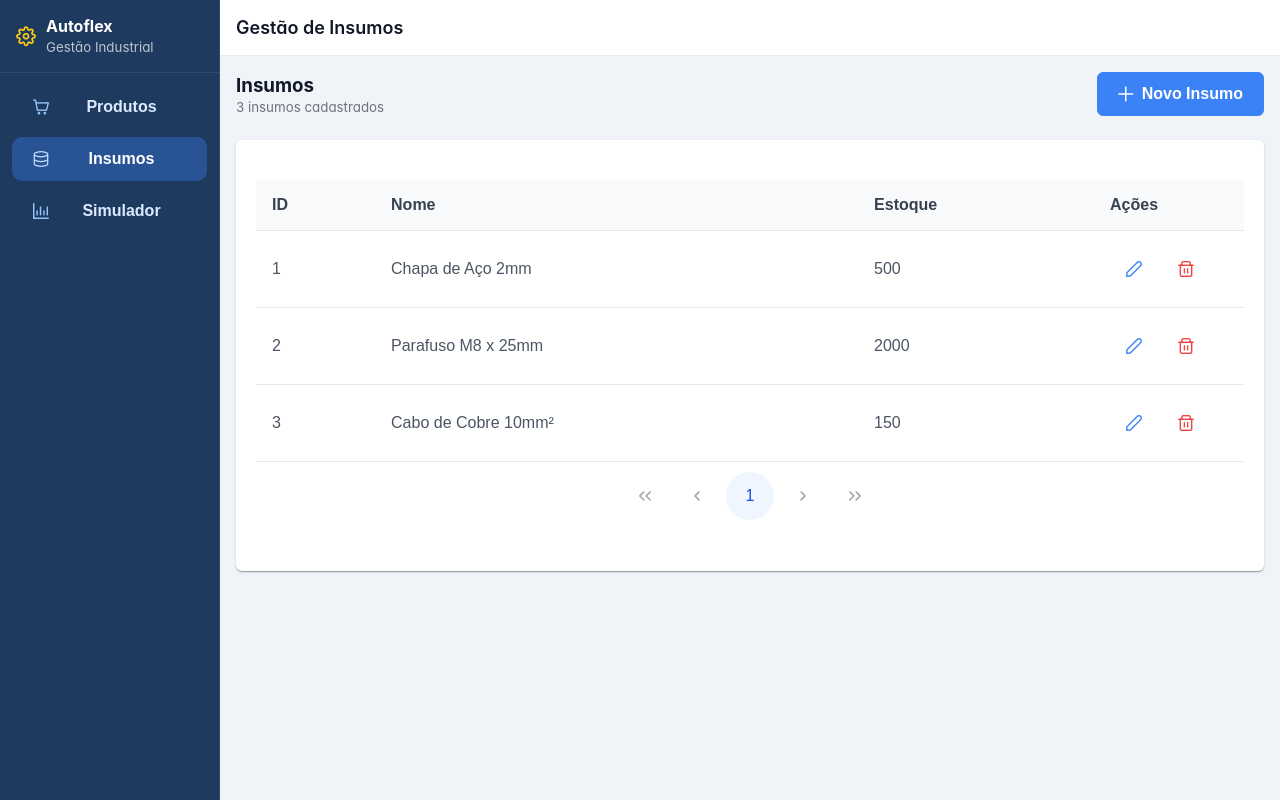
it: Raw Materials › creates a raw material
Click the button with test id "add-raw-material-button" at [1181, 94], box [1097, 72, 1264, 116]
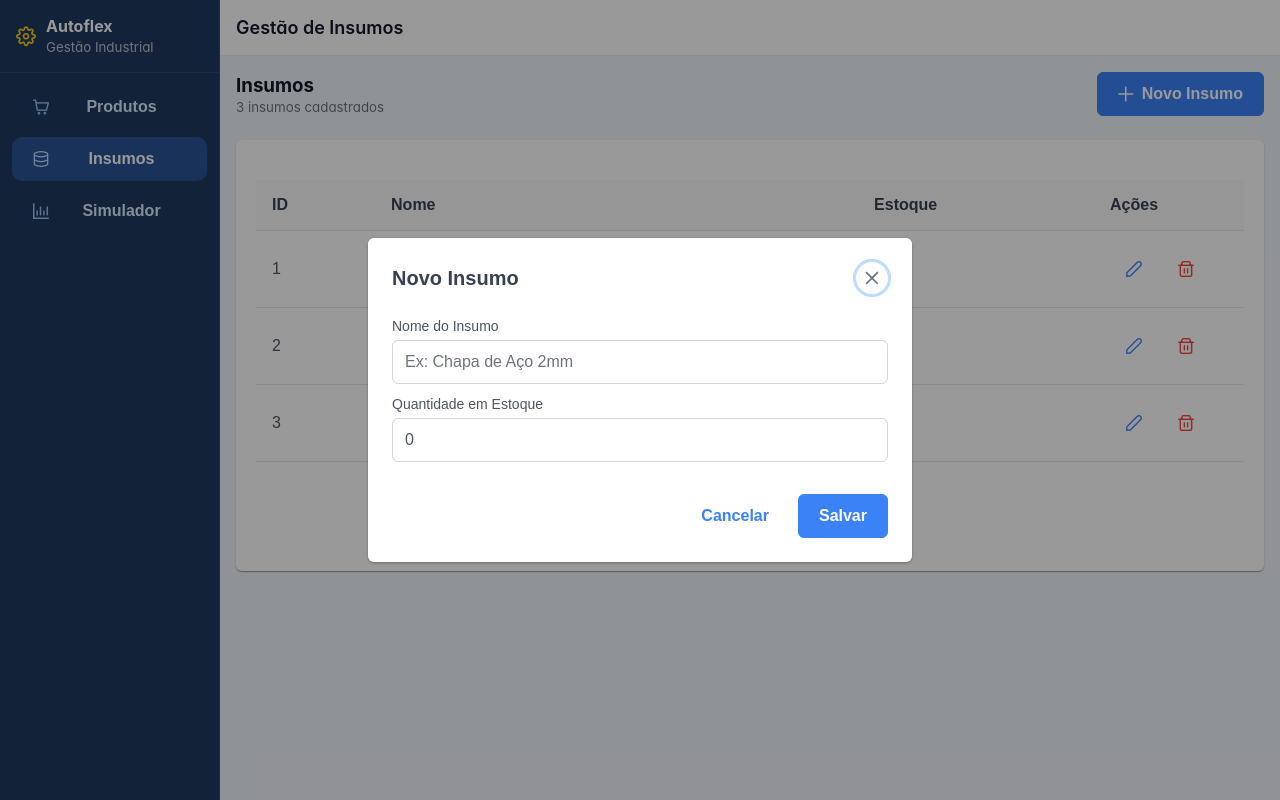
Type "[E2E] Insumo Cypress" into the field with test id "name-input" at [640, 362], box [392, 340, 888, 384]
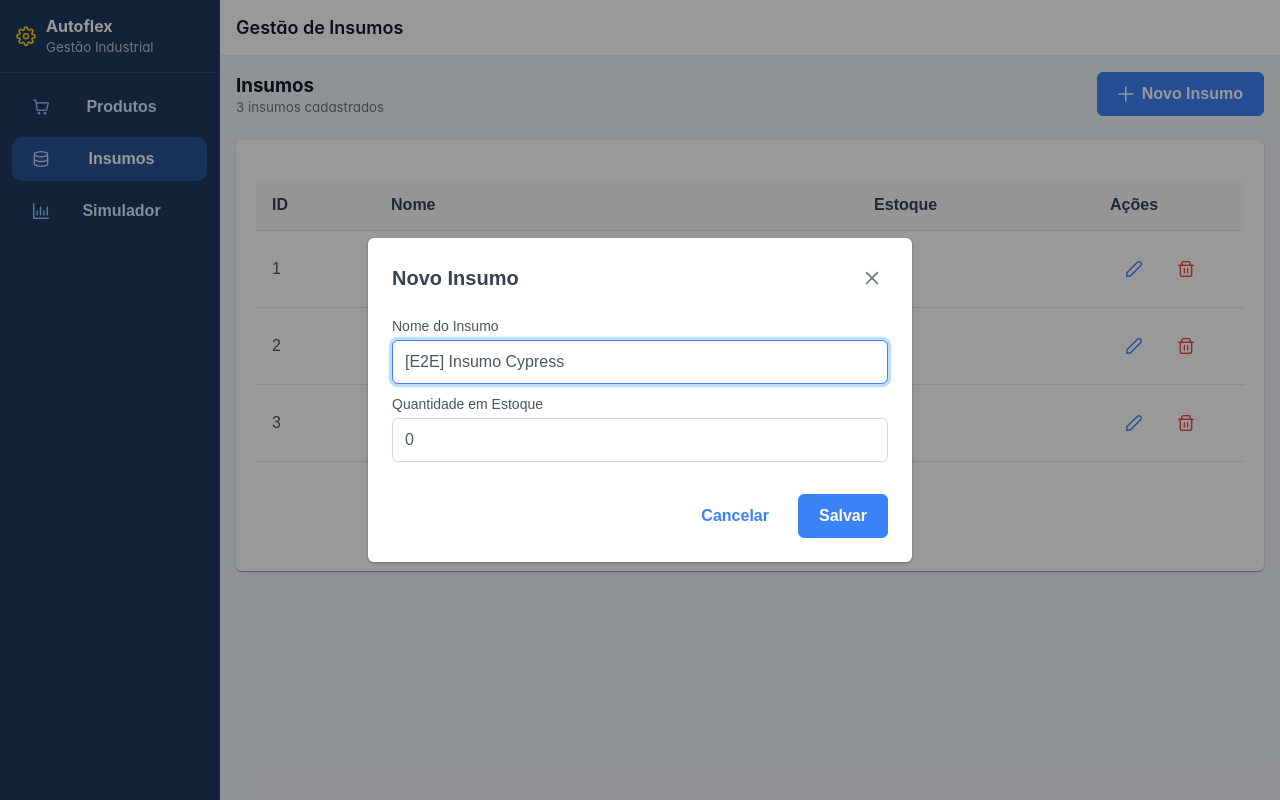
Replace the text in the number field with test id "stock-quantity-input" with "100" at [640, 440], box [392, 418, 888, 462]
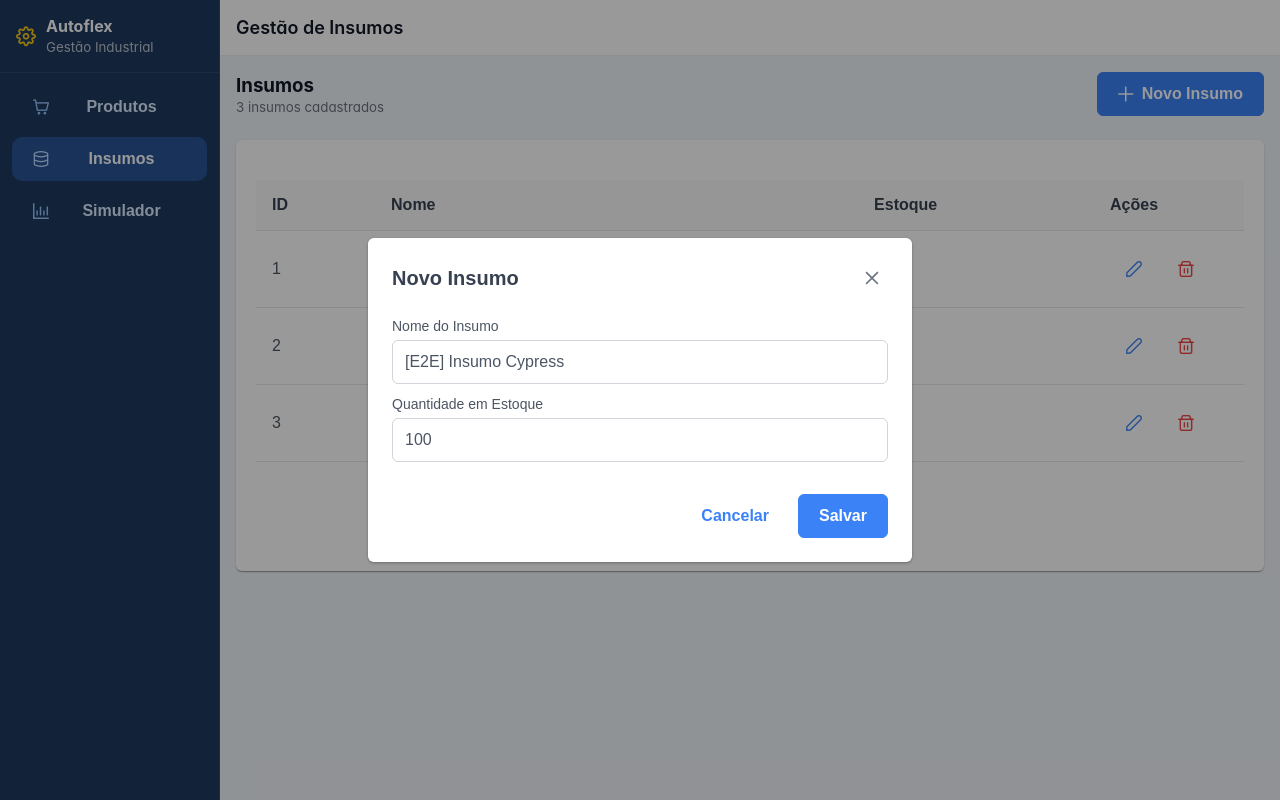
Click the button with test id "modal-ok-button" at [843, 516], box [798, 494, 888, 538]
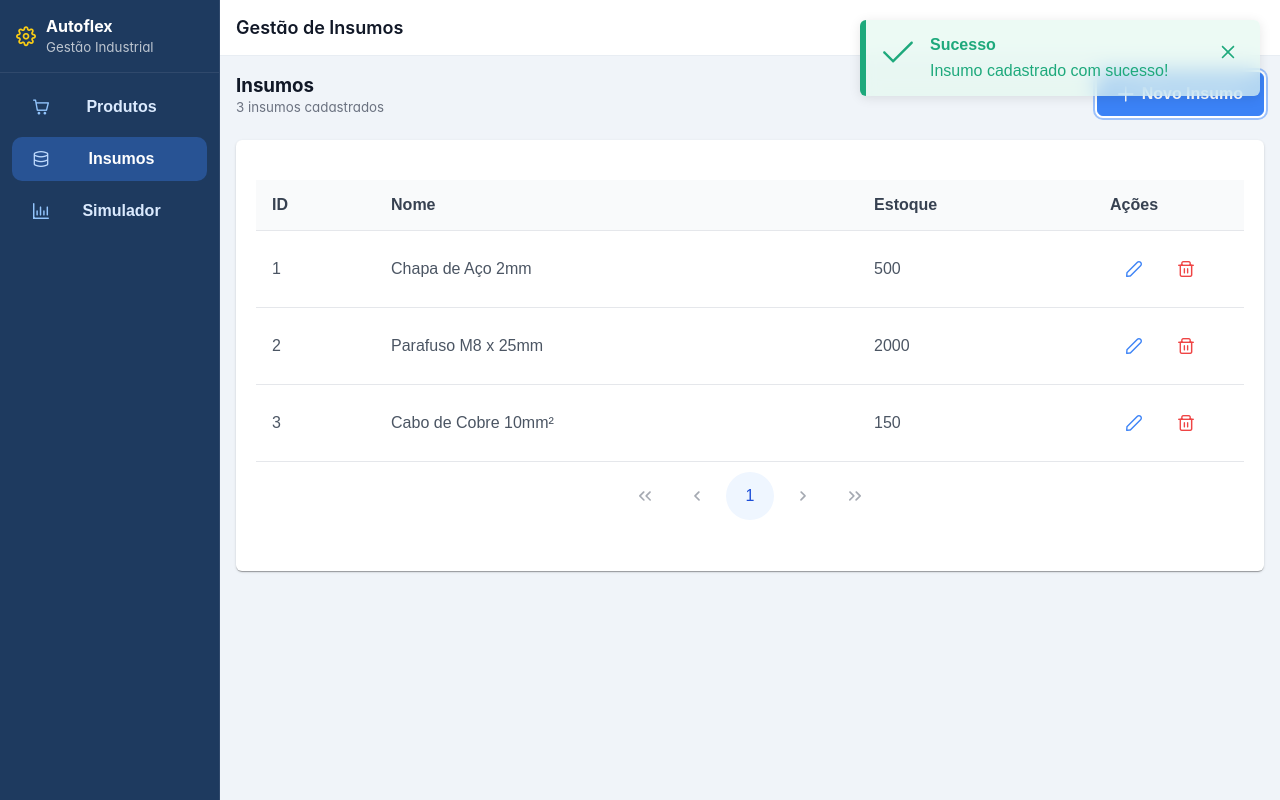
Expected: the text "Insumo cadastrado com sucesso" is shown, [930, 62, 1168, 79]
